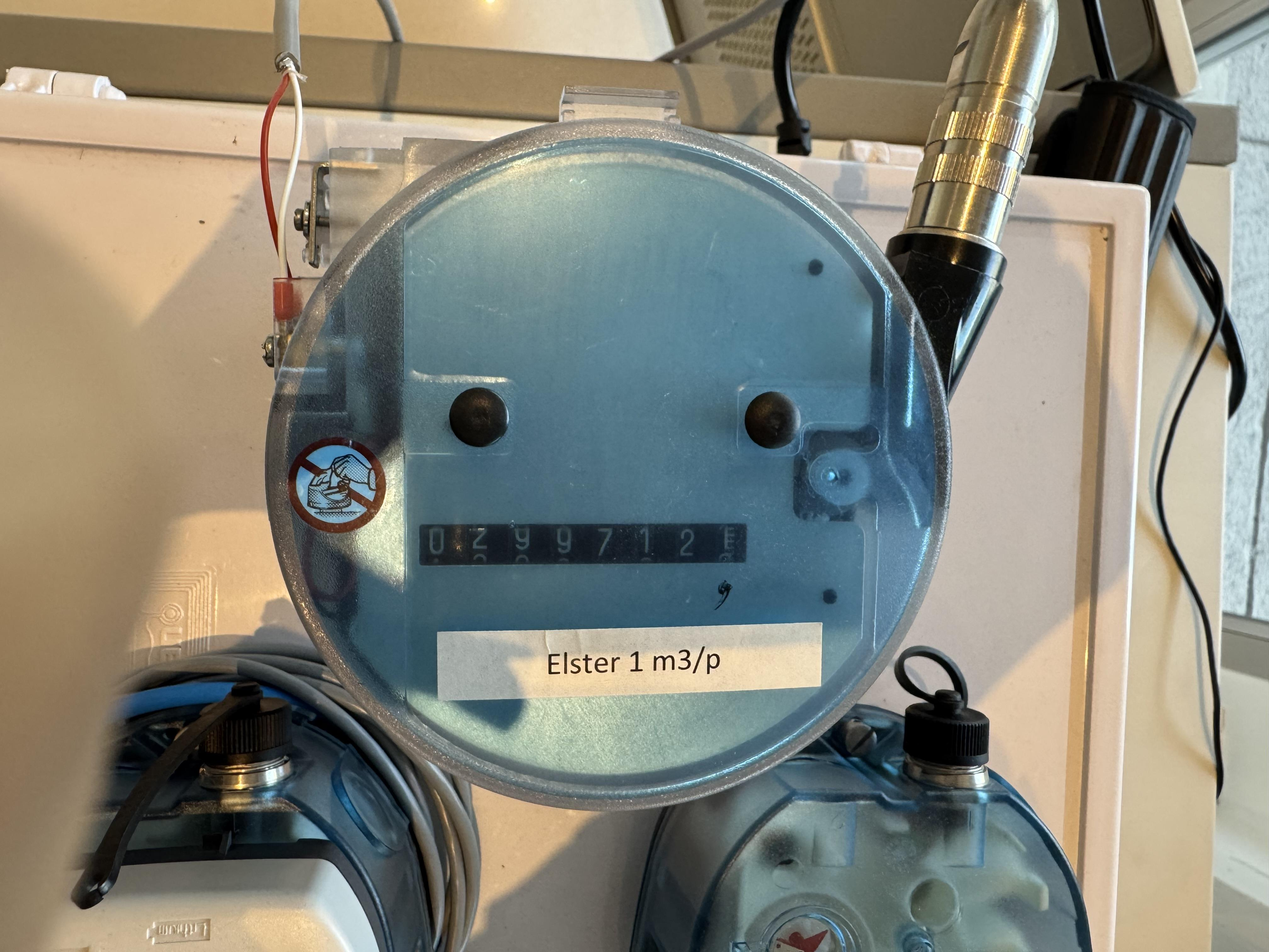analog_dial: (418, 521, 751, 598)
